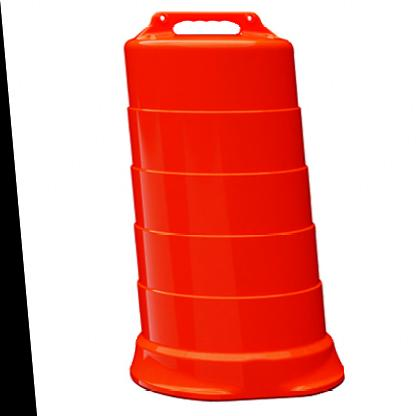obstacle: (95, 14, 340, 404)
